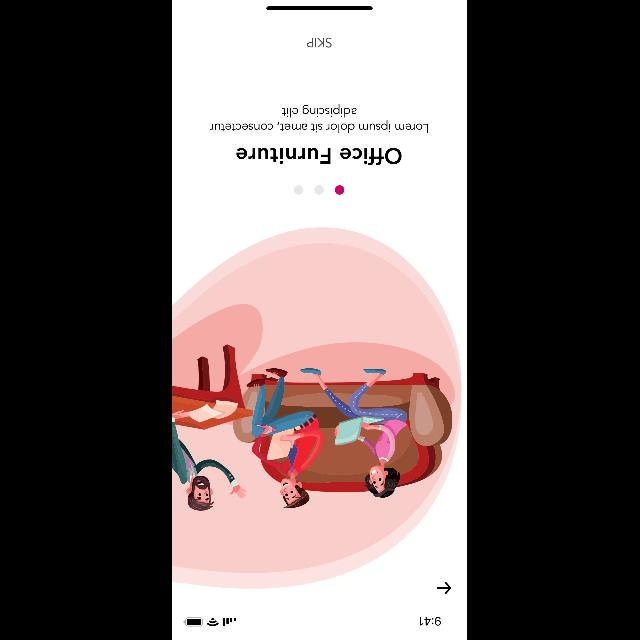icon: (438, 582, 452, 594)
image: (172, 344, 454, 512)
pageindicator: (294, 185, 346, 195)
text: (211, 105, 429, 134), (237, 147, 403, 165), (308, 38, 332, 48)
uppertaskbar: (184, 617, 442, 627)
